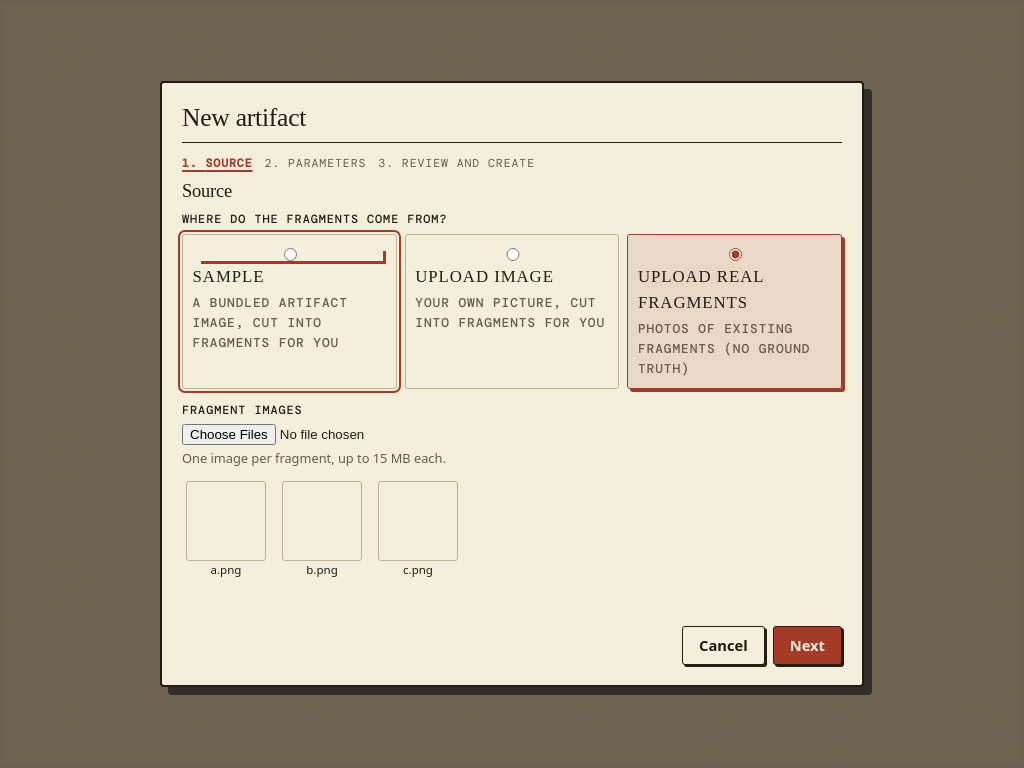
ArtifactWizard — validation › explains a rows × columns mismatch for real fragments
Earlier steps of the test are not shown.
Click the button "Next".
click(807, 645)  # box [773,626,842,665]
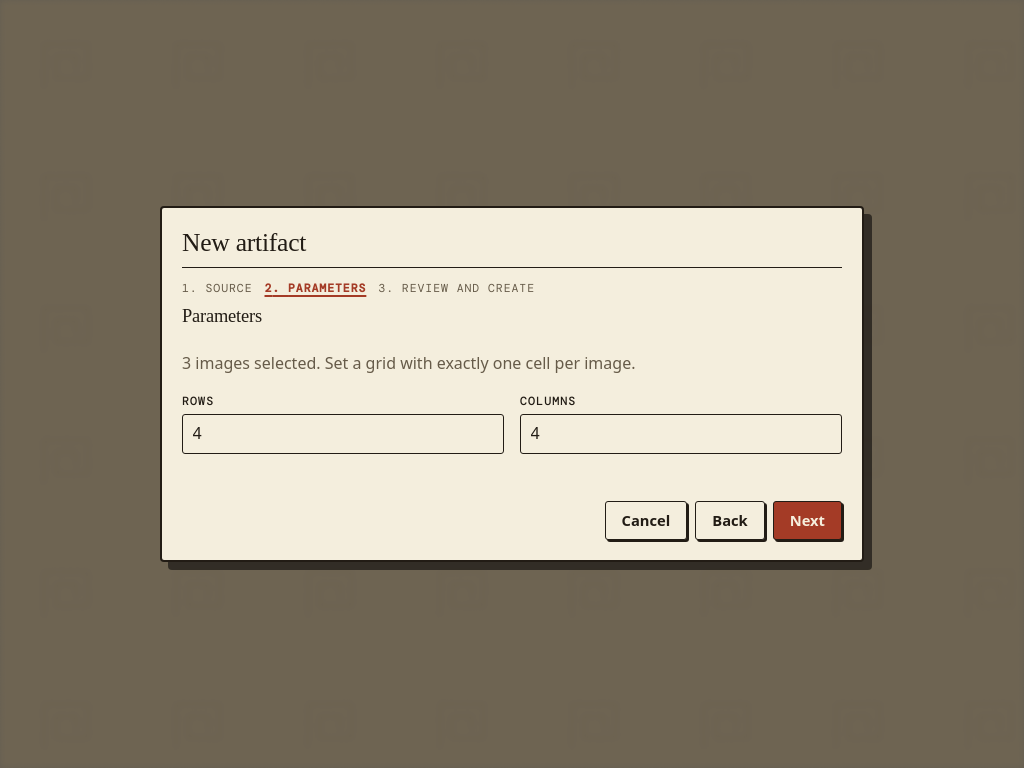
Click the button "Next".
click(807, 520)  # box [773,501,842,540]
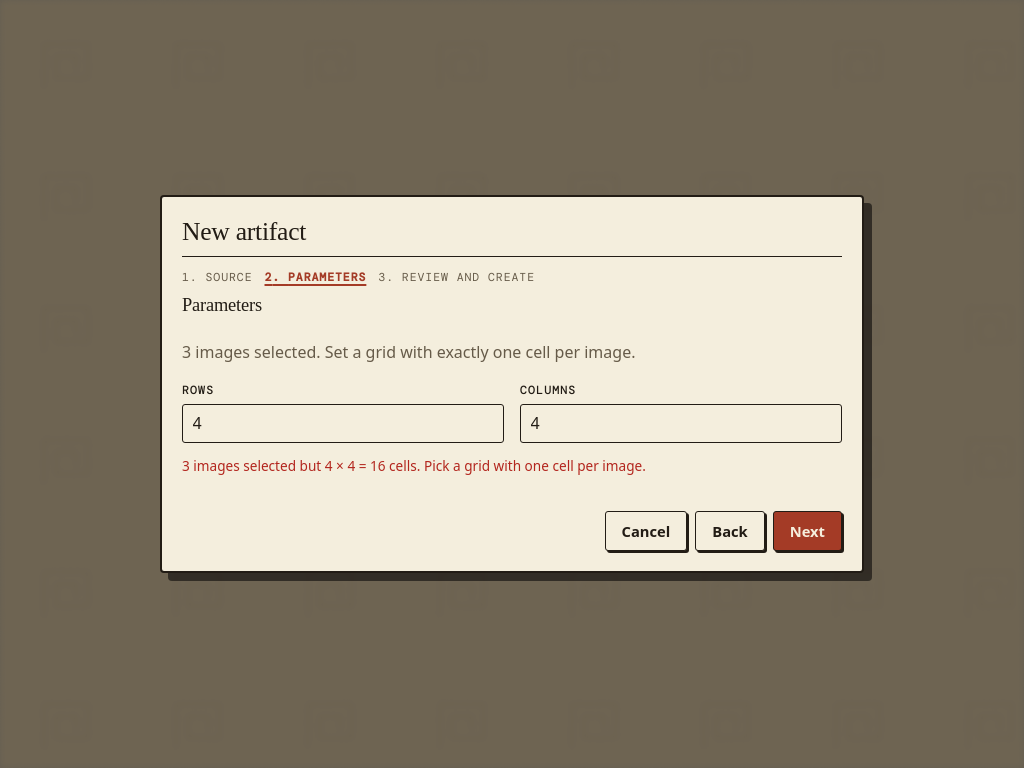
Check: the text "3 images selected but 4 × 4 = 16 cells. Pick a grid with one cell per image." is shown, box [182,456,646,475]
